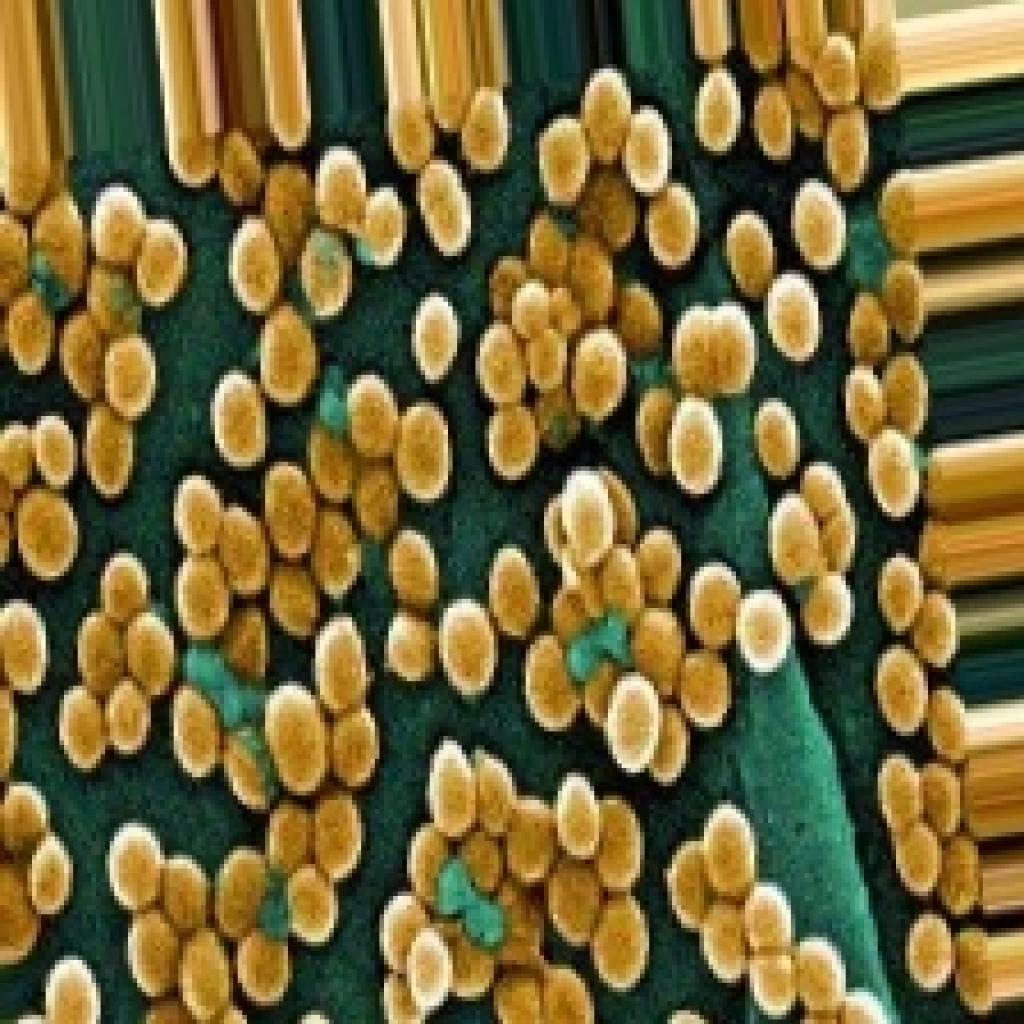Sphericalbacteria: (0, 0, 1015, 1019)
